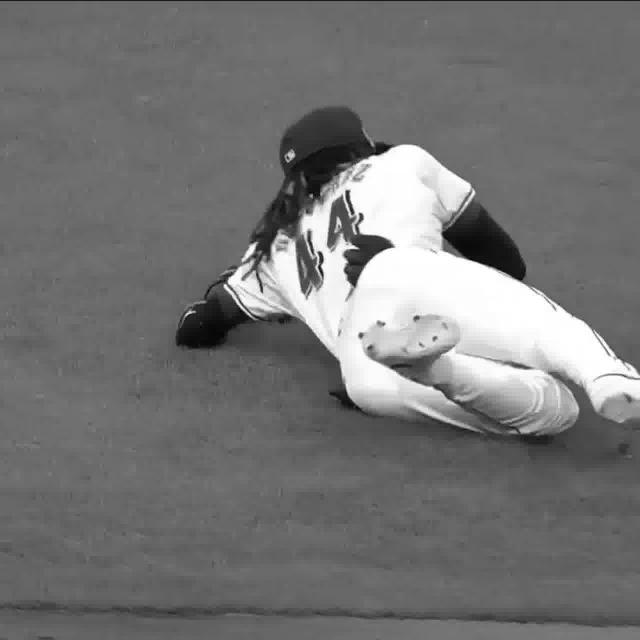shoe: (351, 316, 468, 368), (584, 385, 640, 431)
